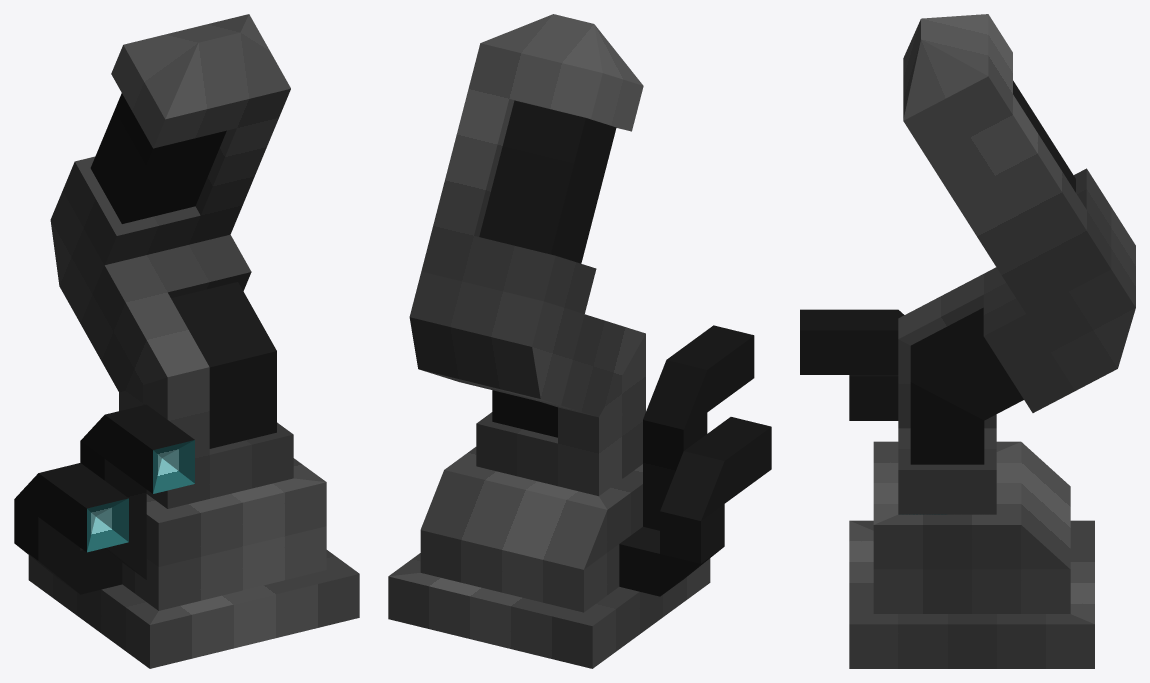
Rendered from leg_rocket_l.obj.
The picture shows the model from 3 angles, left to right: view 1: azimuth 30°, elevation 25°; view 2: azimuth 150°, elevation 25°; view 3: azimuth 270°, elevation 25°; orthographic projection. The views are drawn at different scales.
Parts seen in each view (by area): view 1: LEG_LEFT_ROCKET_Cube.059; view 2: LEG_LEFT_ROCKET_Cube.059; view 3: LEG_LEFT_ROCKET_Cube.059.
Boxes of the visible parts, x1,y1,x2,y2 form: LEG_LEFT_ROCKET_Cube.059: (14, 14, 359, 668); LEG_LEFT_ROCKET_Cube.059: (388, 14, 771, 668); LEG_LEFT_ROCKET_Cube.059: (800, 14, 1135, 668).
Bounding box in the file's own units: 0.4062 × 0.8246 × 0.4269.
